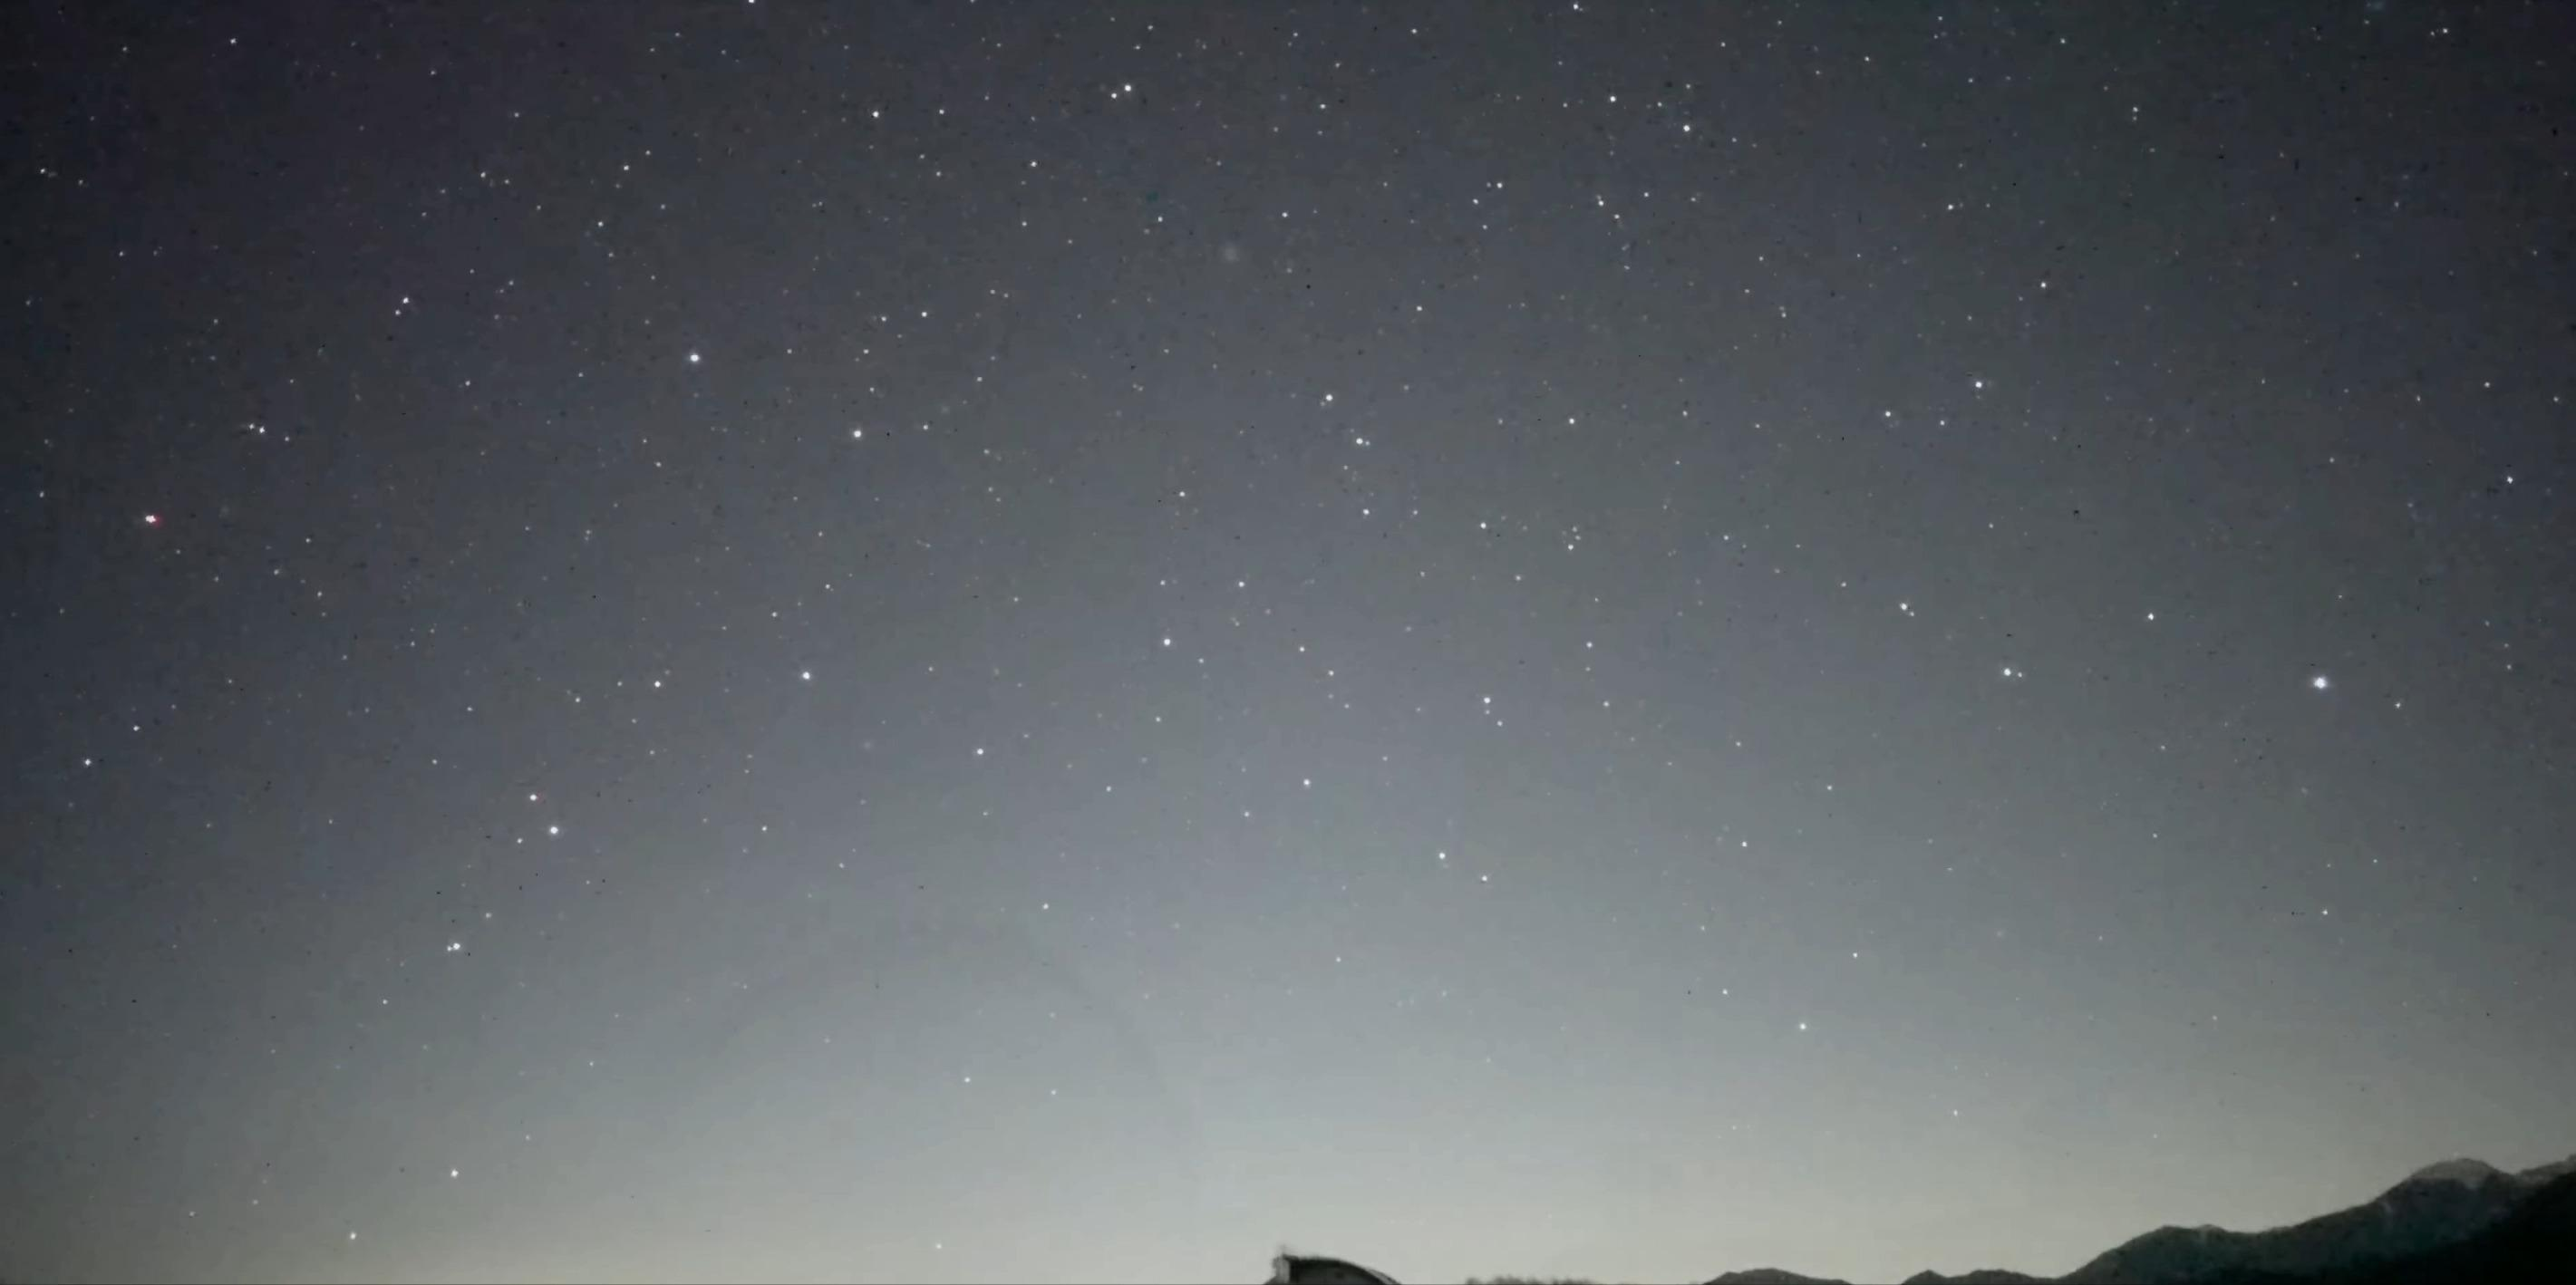Plane: (521, 779, 555, 812), (133, 504, 164, 531)
